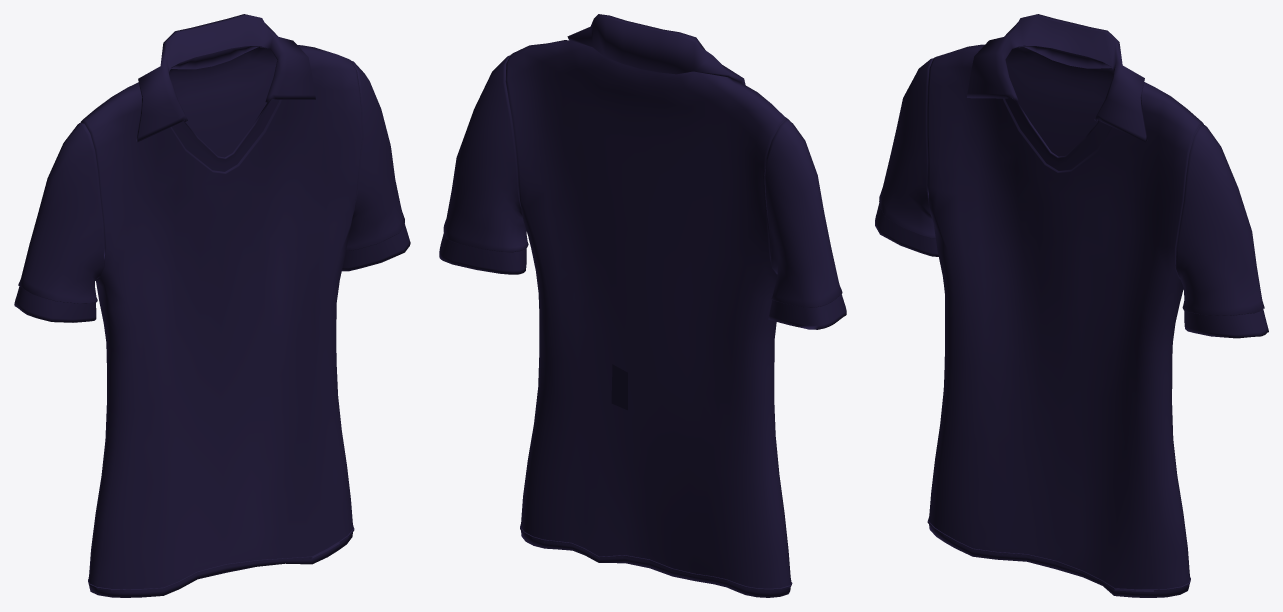
The model's file is T_ShirtC.fbx.
3 views of the same model, side by side, from view 1: azimuth 30°, elevation 25°; view 2: azimuth 150°, elevation 25°; view 3: azimuth 330°, elevation 25° (orthographic). The views are drawn at different scales.
Visible parts, largest first — view 1: T_ShirtC; view 2: T_ShirtC; view 3: T_ShirtC.
Boxes of the visible parts, x1,y1,x2,y2 form: T_ShirtC: [14, 14, 410, 597]; T_ShirtC: [439, 14, 846, 597]; T_ShirtC: [875, 14, 1268, 597].
Size of the model in its own units: 60.17 by 79.21 by 11.23.
